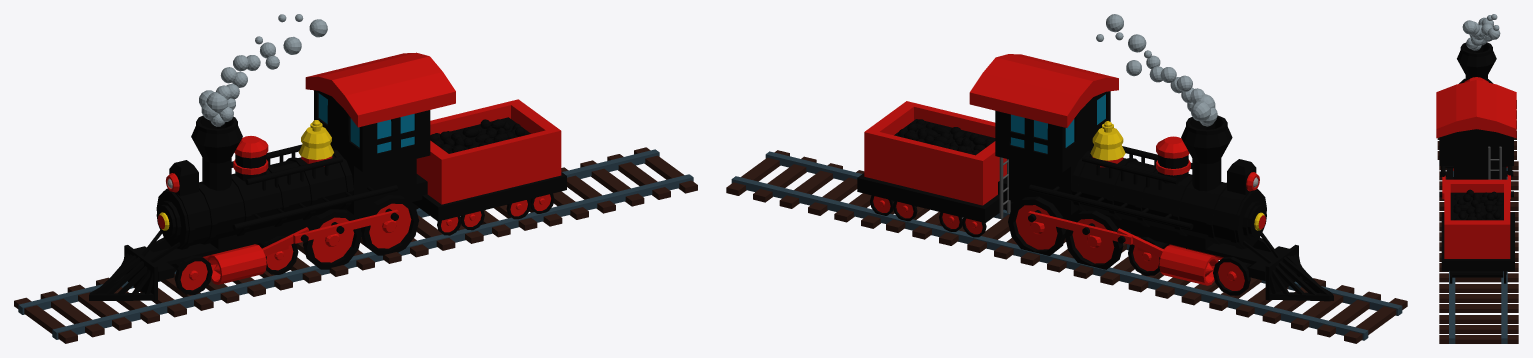
The model's file is steam_train.gltf.
3 renders of one model, left to right at view 1: azimuth 30°, elevation 25°; view 2: azimuth 150°, elevation 25°; view 3: azimuth 270°, elevation 25°, orthographic. The views are drawn at different scales.
Parts seen in each view (by area): view 1: node_MeshObject-352658432-PolyPaper8, node_MeshObject1603858560-PolyPaper23, node_MeshObject1348708544-PolyPaper23, node_MeshObject1891033280-PolyPaper23; view 2: node_MeshObject-352658432-PolyPaper8, node_MeshObject1348708544-PolyPaper23, node_MeshObject1603858560-PolyPaper23, node_MeshObject1891033280-PolyPaper23; view 3: node_MeshObject-352658432-PolyPaper8, node_MeshObject1603858560-PolyPaper23, node_MeshObject1348708544-PolyPaper23, node_MeshObject1891033280-PolyPaper23.
Boxes of the visible parts, left/top/right/bottom form: node_MeshObject-352658432-PolyPaper8: left=14, top=55, right=697, bottom=343; node_MeshObject1603858560-PolyPaper23: left=93, top=55, right=561, bottom=300; node_MeshObject1348708544-PolyPaper23: left=89, top=14, right=530, bottom=300; node_MeshObject1891033280-PolyPaper23: left=430, top=119, right=527, bottom=152; node_MeshObject-352658432-PolyPaper8: left=726, top=55, right=1407, bottom=343; node_MeshObject1348708544-PolyPaper23: left=879, top=14, right=1333, bottom=301; node_MeshObject1603858560-PolyPaper23: left=864, top=66, right=1329, bottom=300; node_MeshObject1891033280-PolyPaper23: left=900, top=119, right=985, bottom=155; node_MeshObject-352658432-PolyPaper8: left=1437, top=17, right=1518, bottom=343; node_MeshObject1603858560-PolyPaper23: left=1439, top=23, right=1513, bottom=283; node_MeshObject1348708544-PolyPaper23: left=1436, top=14, right=1516, bottom=277; node_MeshObject1891033280-PolyPaper23: left=1454, top=191, right=1500, bottom=220.
Bounding box in the file's own units: 9.38 × 3.43 × 1.36.
